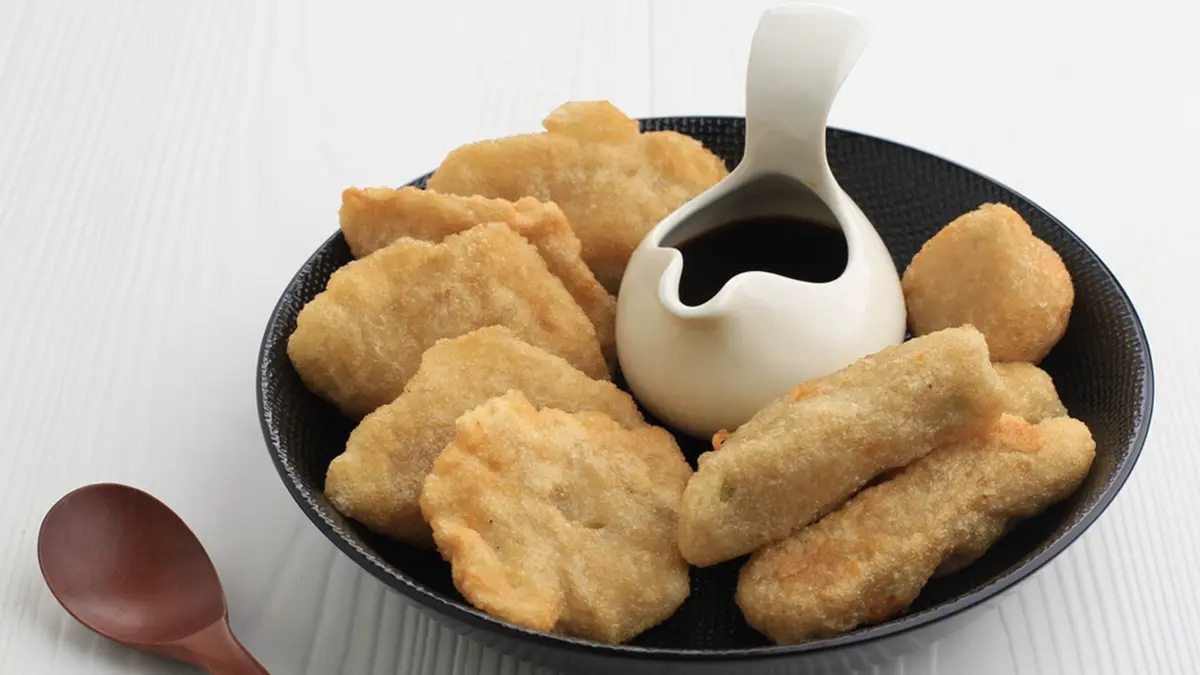pempek: (320, 82, 1104, 620)
